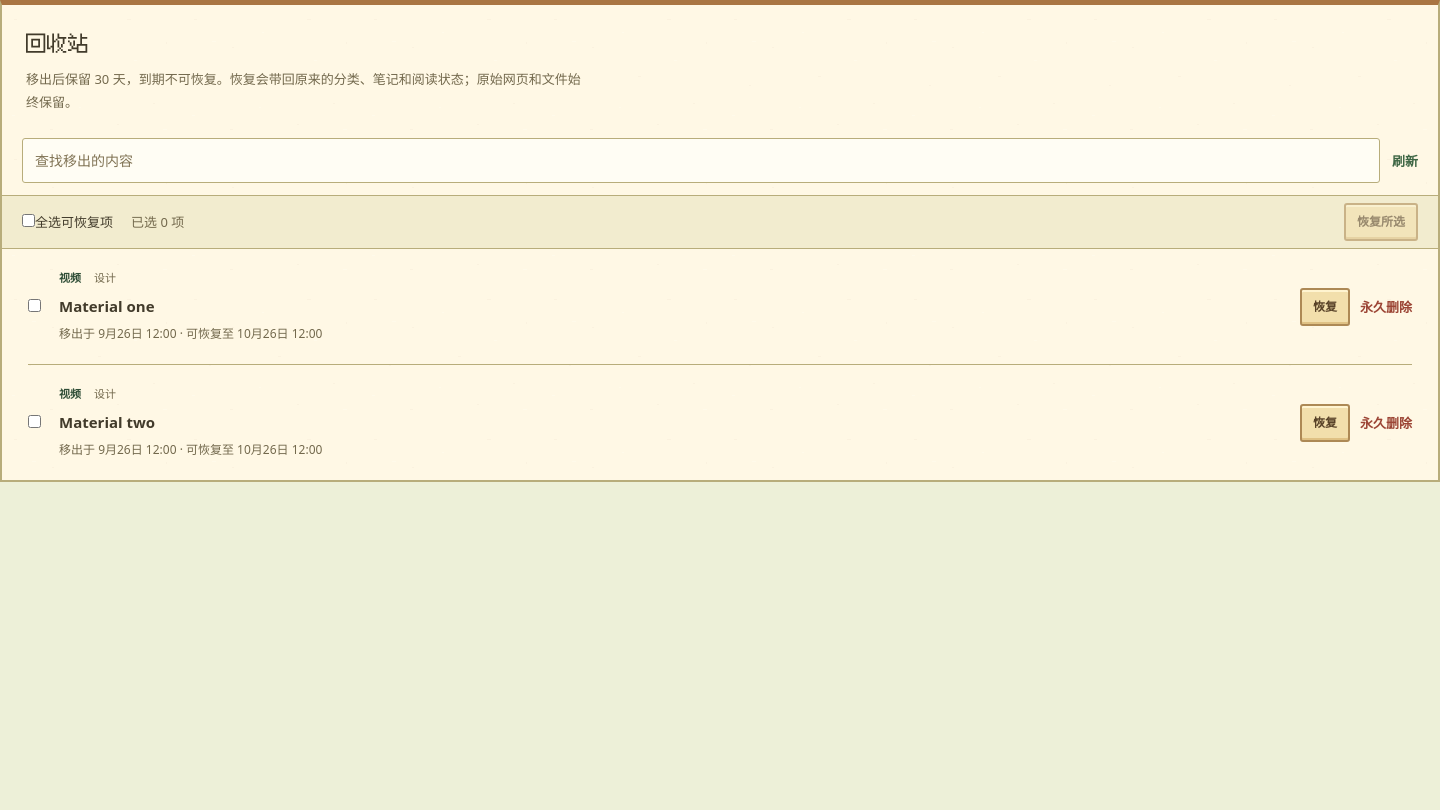
Test case: reading permanent removal › confirms one snapshot and keeps unrelated removed records
This screenshot has width=1440, height=810.
Click the button "永久删除" in the row of "Material one" at (1386, 307), box [1360,288,1412,325]
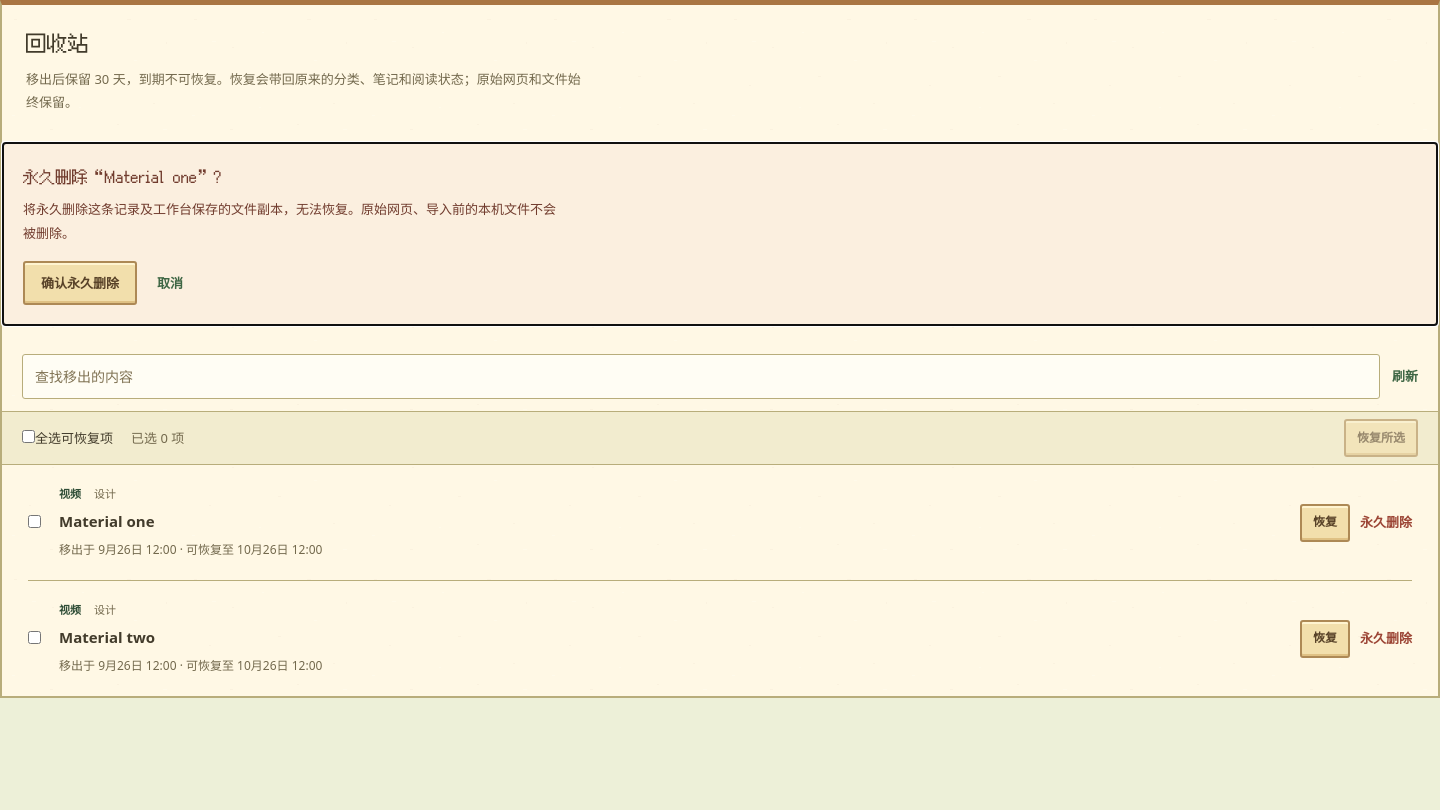
Expected: the text "原始网页、导入前的本机文件不会被删除" is shown, [23,200,556,242]
Click the button "确认永久删除" at (80, 283), box [23,261,137,305]
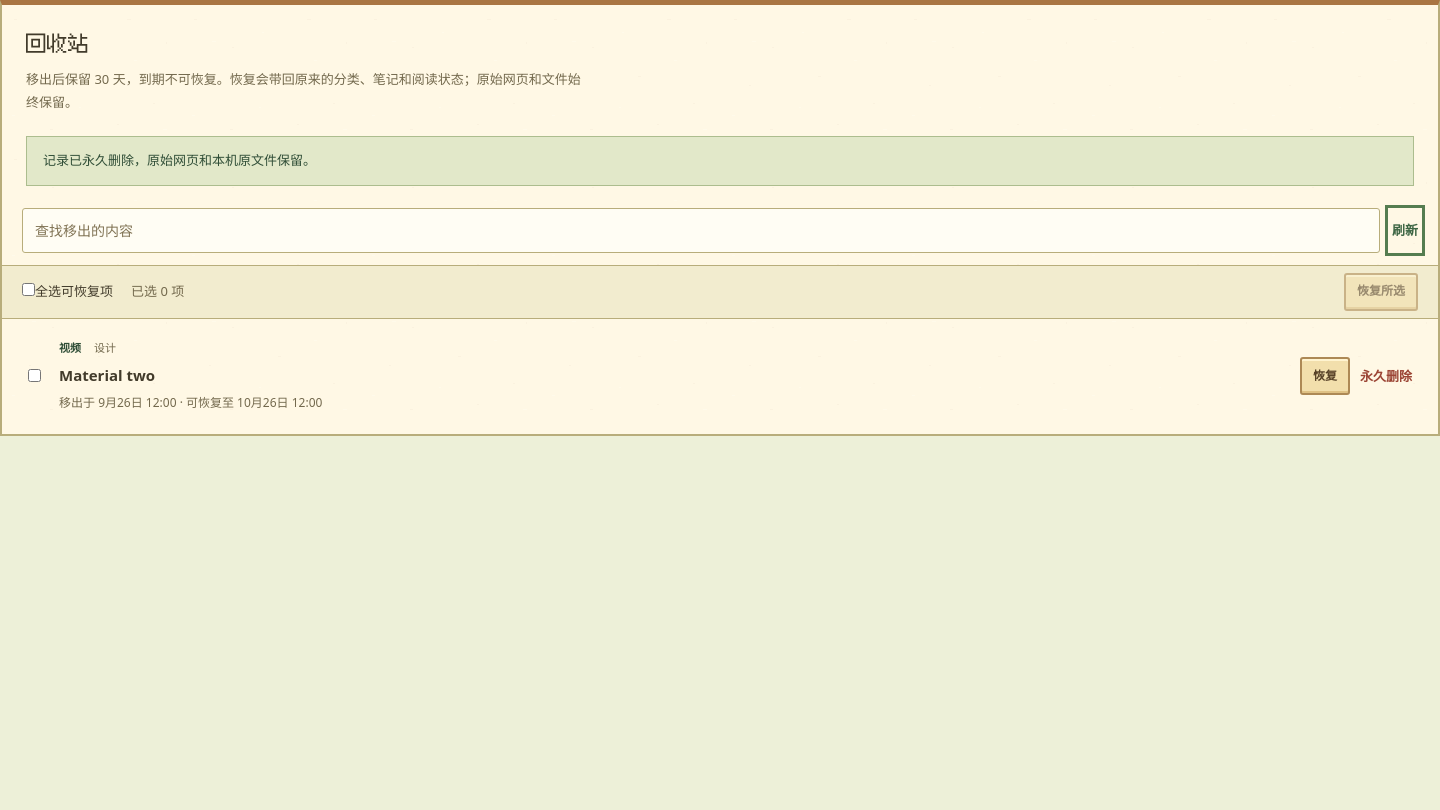
Expected: the text "Material two" is shown, [59,365,155,385]
Expected: the text "Material one" is gone
